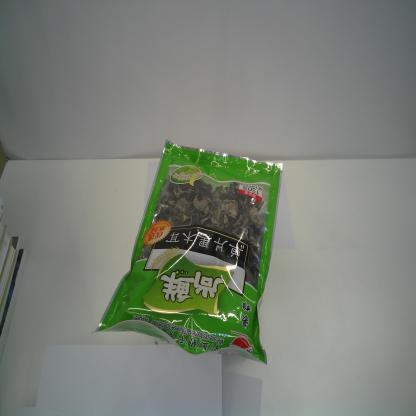Dried Food: (89, 137, 284, 368)
